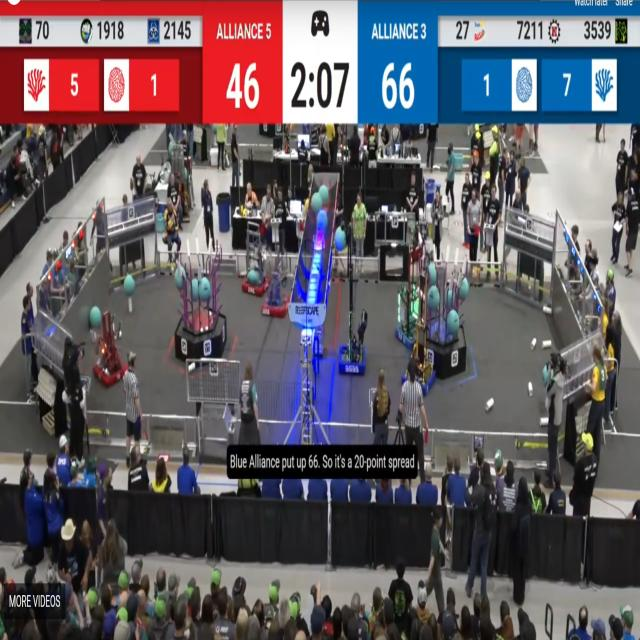Robot-YfA7: (403, 250, 438, 397), (338, 232, 368, 378), (396, 229, 423, 346), (92, 309, 126, 388), (242, 221, 270, 296), (261, 262, 290, 314)
